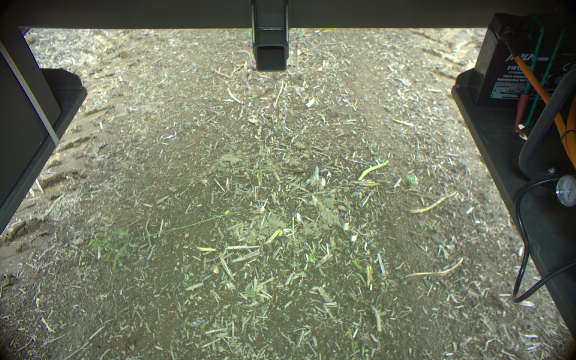aspa: (291, 41, 302, 78), (234, 48, 253, 69)
